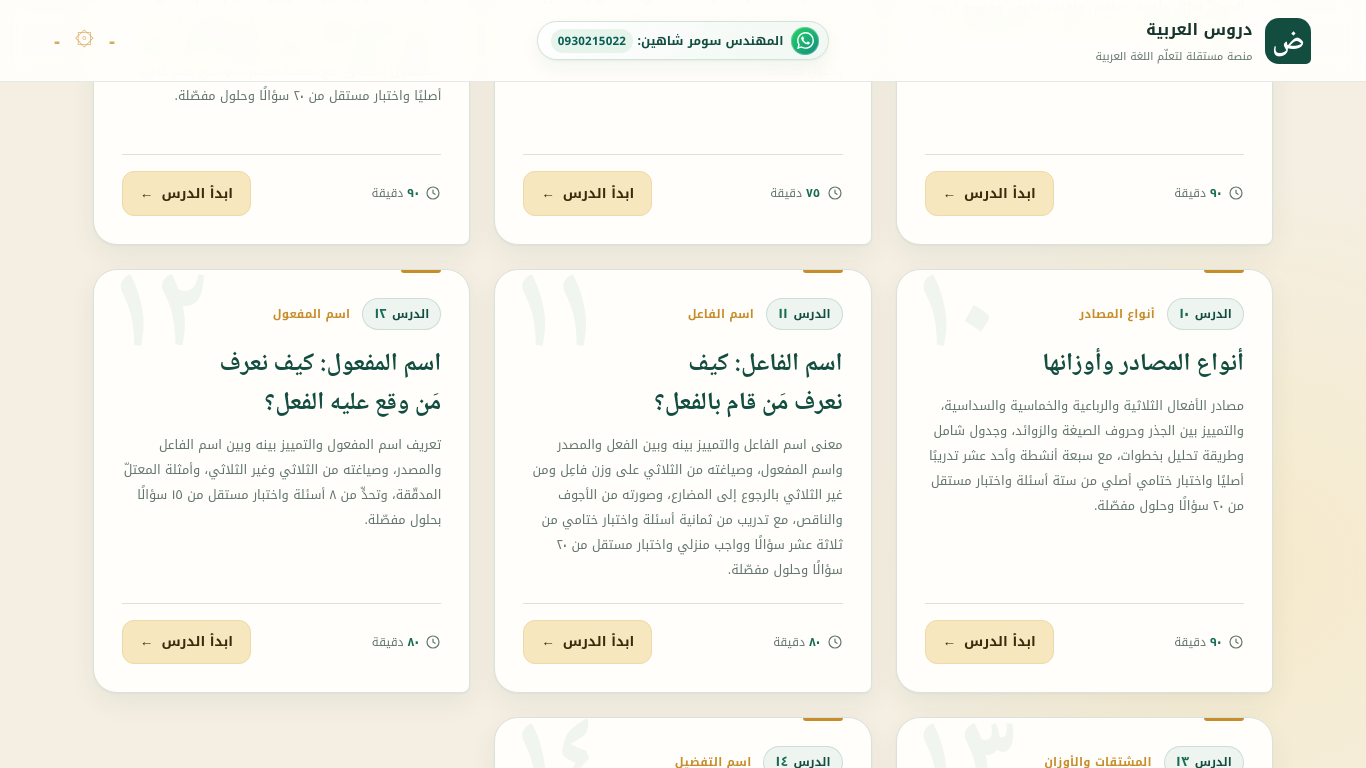
Scenario: morphology lesson 12 — registration, routing and lesson-flow navigation › opens as morphology lesson 12 only, follows morphology 11, and finishes back at the section grid
(page scrolled)
Click the link "اسم المفعول: كيف نعرف مَن وقع عليه الفعل؟" at coordinates (330, 365), box [219,343,441,425]
(page scrolled)
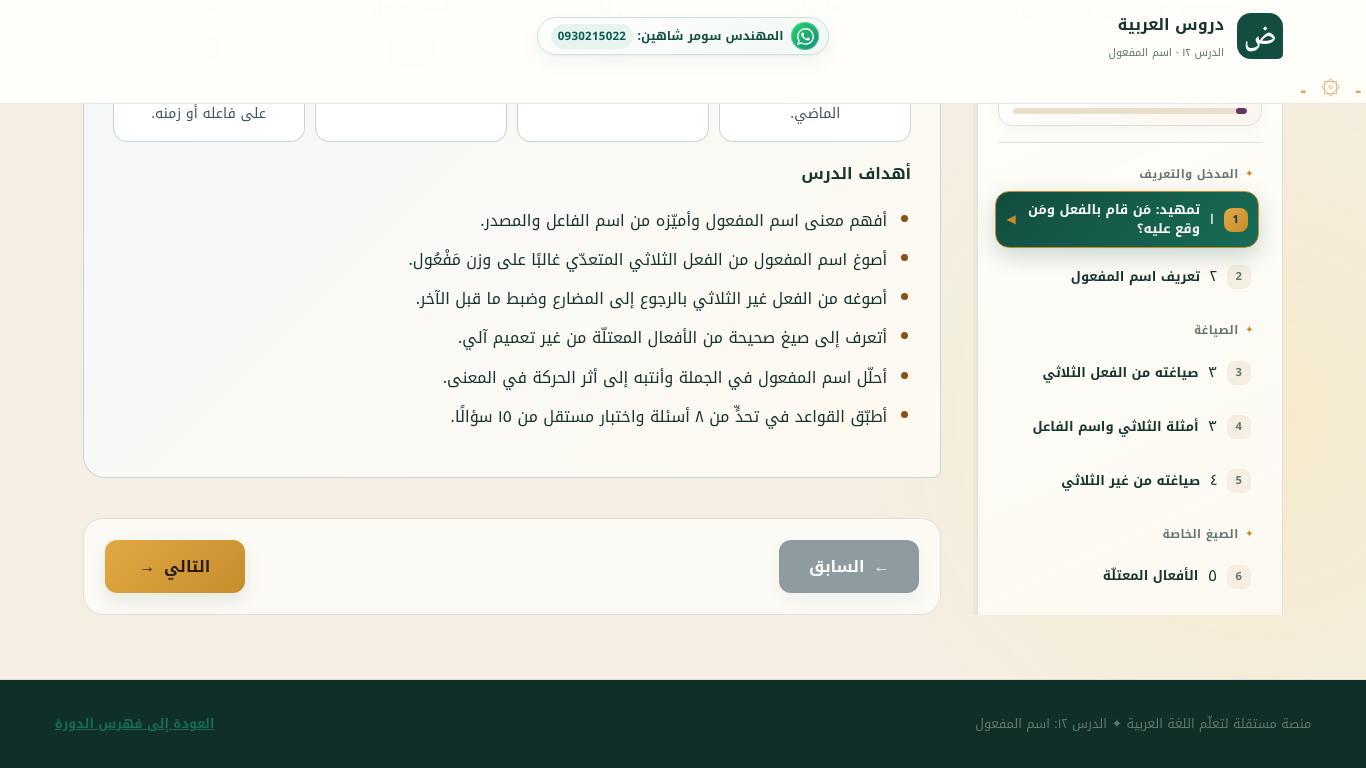
Click the button "التالي →" at coordinates (175, 566), box [105,540,245,593]
(page scrolled)
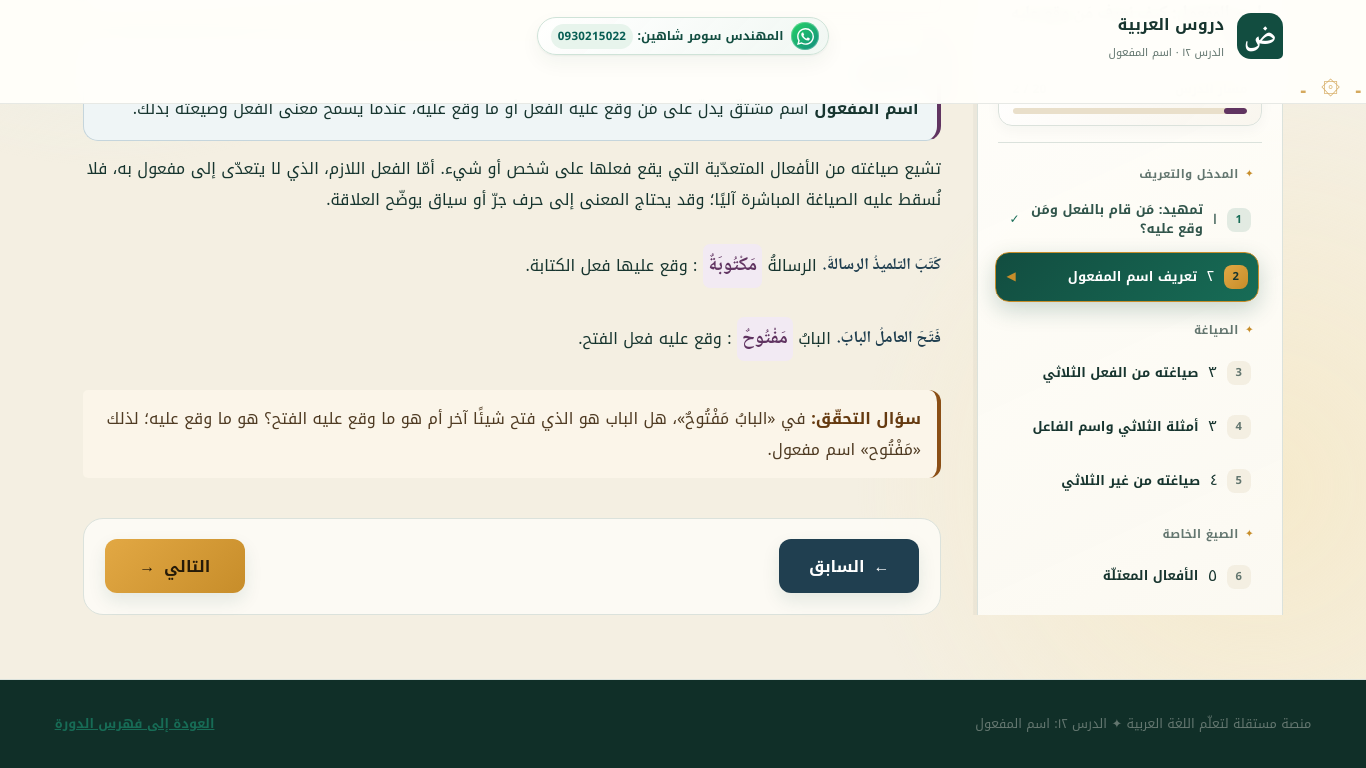
Click the button "← السابق" at coordinates (849, 566), box [779,540,919,593]
(page scrolled)
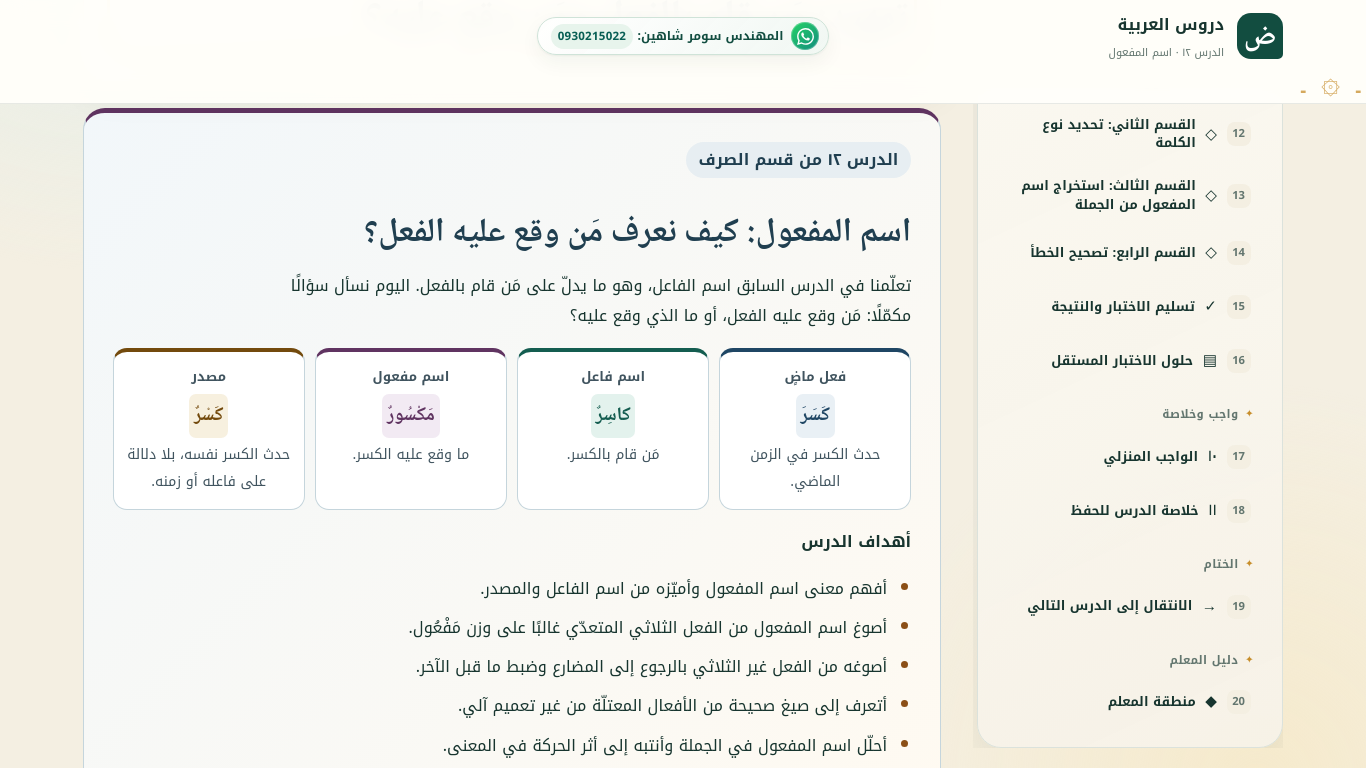
Click the button "19 → الانتقال إلى الدرس التالي" at coordinates (1130, 606), box [998,582,1262,631]
(page scrolled)
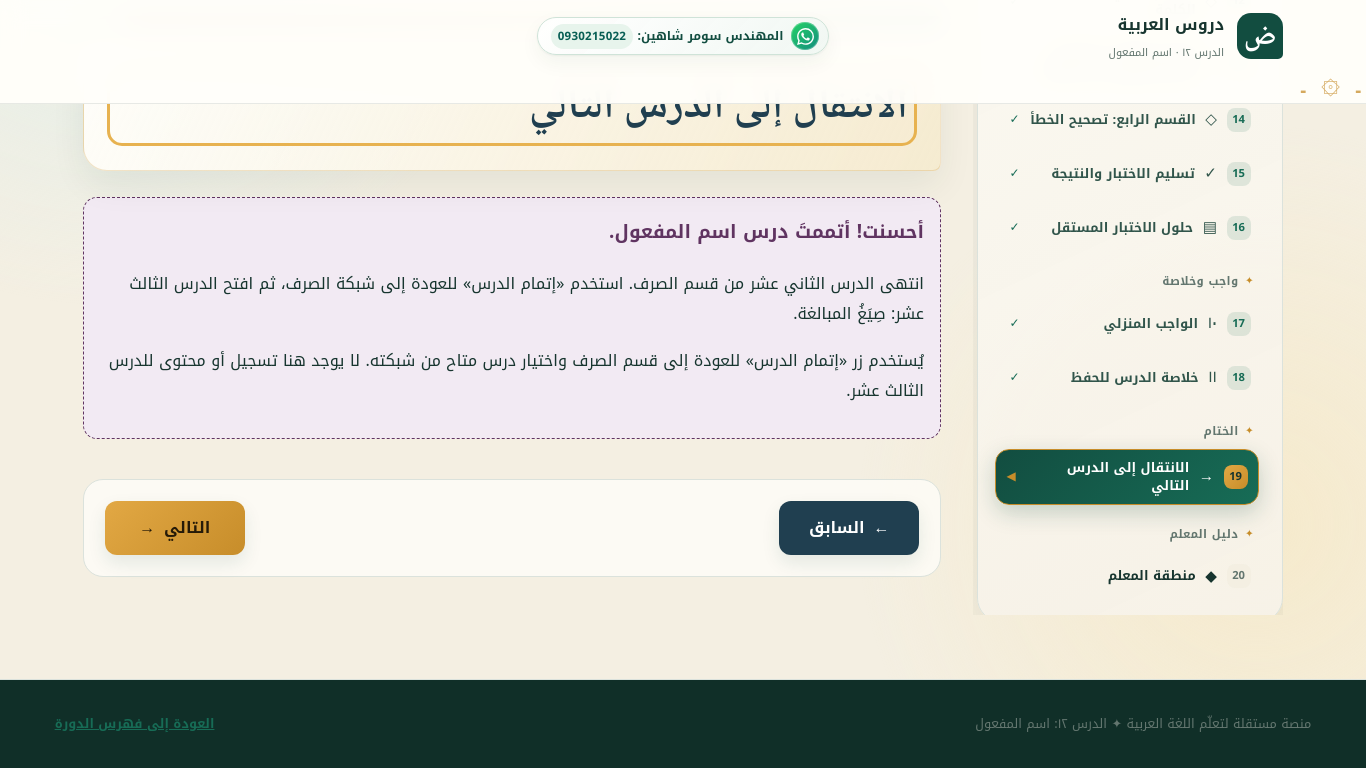
Expected: the element with class "lesson-step" shows "الدرس الثالث عشر: صِيَغُ المبالغة", [129,268,924,329]
Click the button "20 ◆ منطقة المعلم" at coordinates (1130, 576), box [998,552,1262,601]
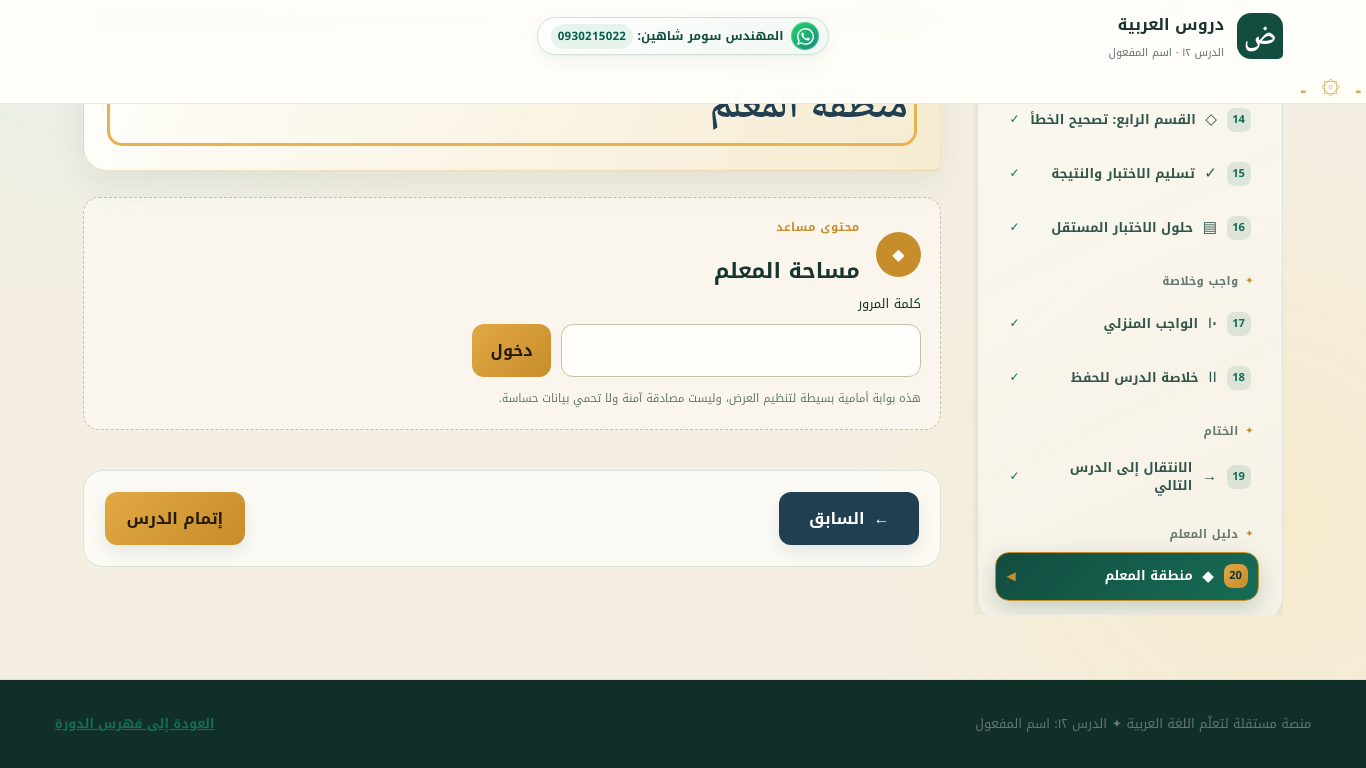
Click the button "إتمام الدرس" at coordinates (175, 518), box [105,492,245,545]
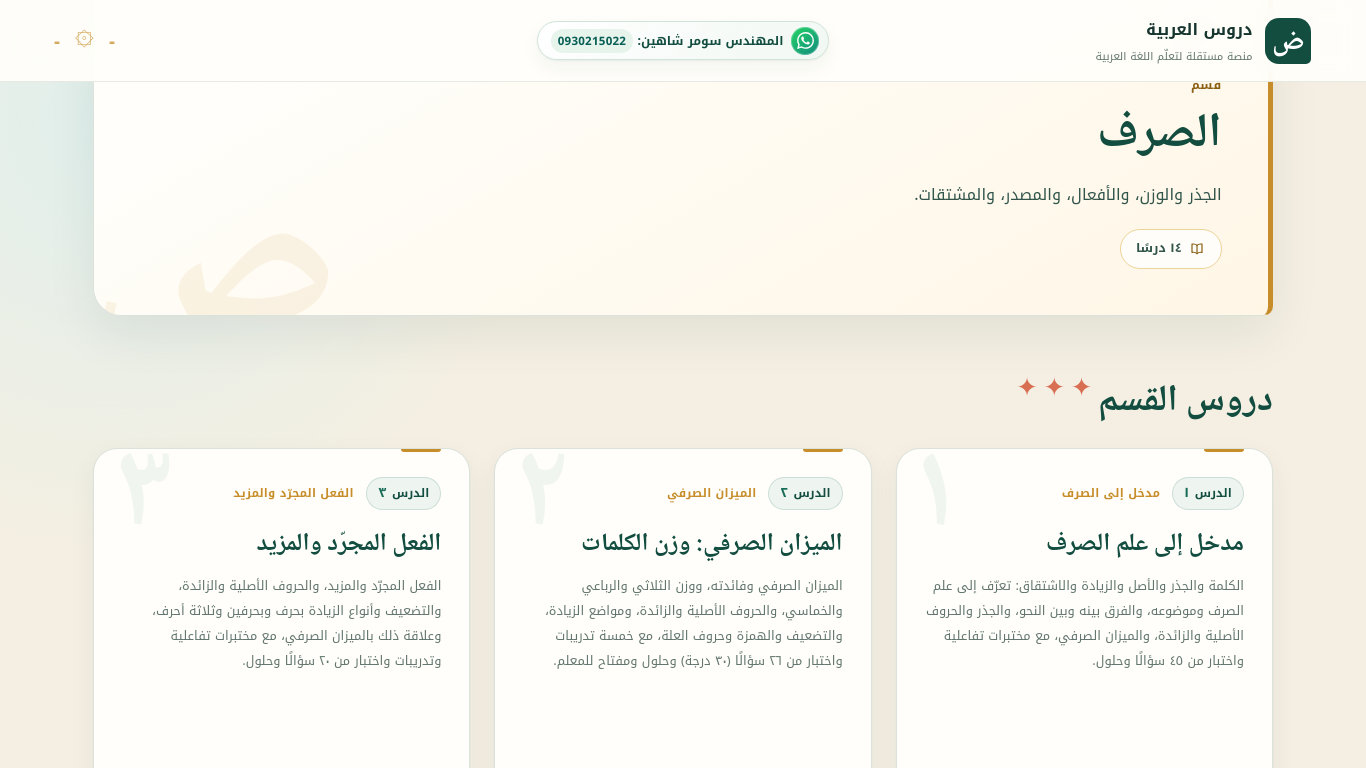
Expected: the heading "الصرف" is shown, [1097,95,1222,176]
